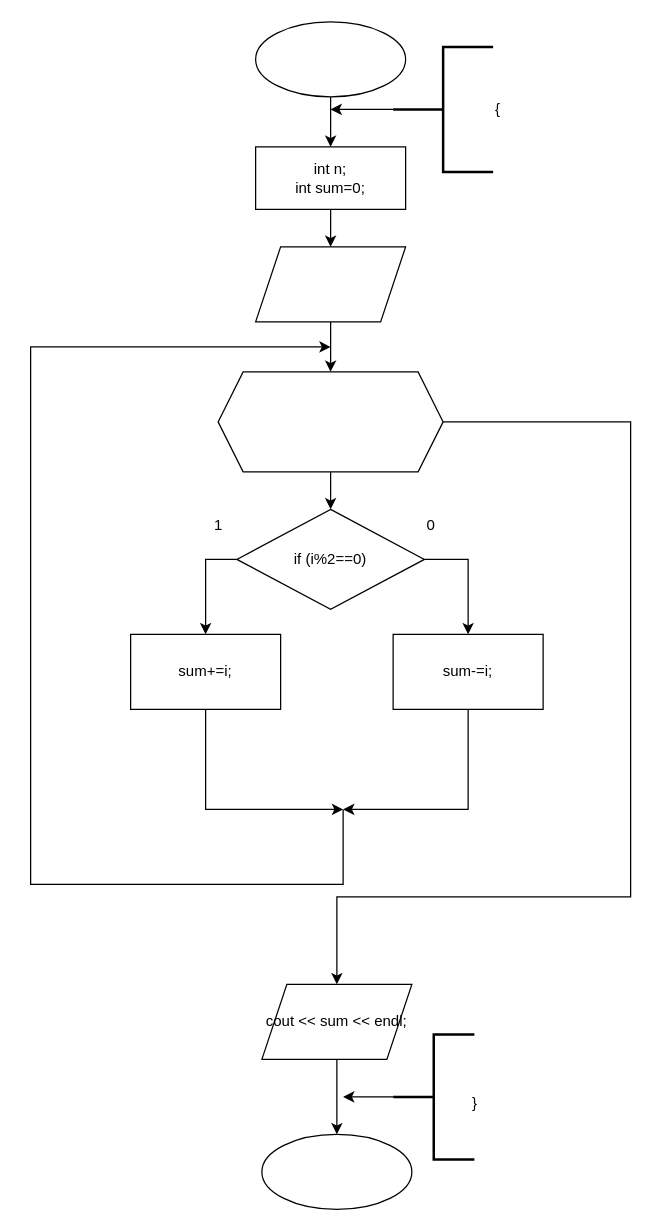
Some shapes in this 663 by 1231 pixel diagram are drawn without their labels. Each missing label, with the centre of its shape:
cin >> n;: the point at 330,284
for (int i = 1; i <= n; i++): the point at 330,421
Конец: the point at 336,1171
Начало: the point at 330,59
